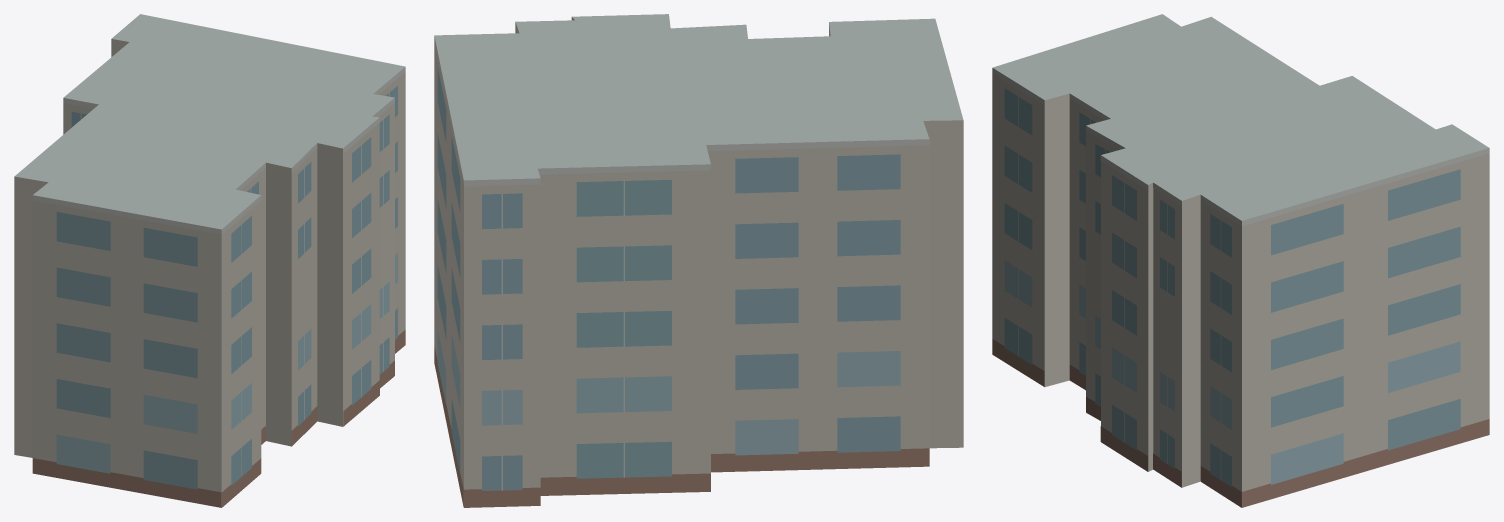
The model's file is survey-upis-32939377.glb.
3 renders of one model, left to right at view 1: azimuth 30°, elevation 25°; view 2: azimuth 150°, elevation 25°; view 3: azimuth 270°, elevation 25°, orthographic. The views are drawn at different scales.
Visible parts, largest first — view 1: survey-upis-32939377.tmp; view 2: survey-upis-32939377.tmp; view 3: survey-upis-32939377.tmp.
Boxes of the visible parts, x1,y1,x2,y2 form: survey-upis-32939377.tmp: (14,14,405,507); survey-upis-32939377.tmp: (434,14,963,507); survey-upis-32939377.tmp: (992,14,1489,507).
Size of the model in its own units: 20.27 by 13.1 by 20.58.
